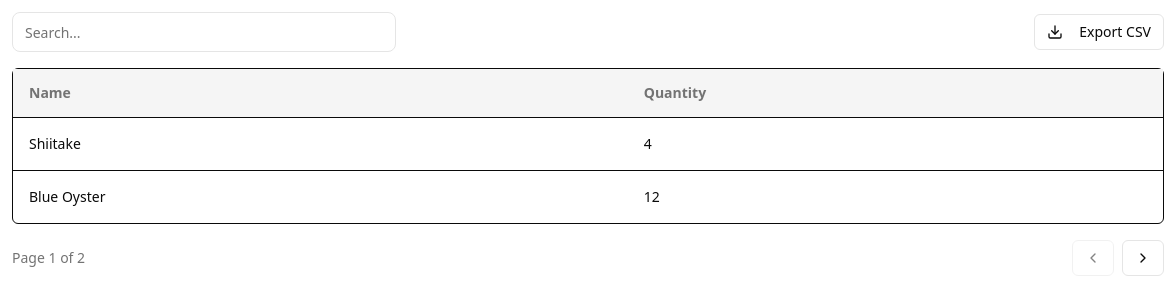
DataTable interactions › paginates without moving outside the available pages
Expected: the text "Page 1 of 2" is shown, [12, 248, 85, 268]
Expected: the button named "Previous page" is disabled, [1072, 240, 1114, 276]
Click the button named "Next page" at coordinates (1143, 258), box [1122, 240, 1164, 276]
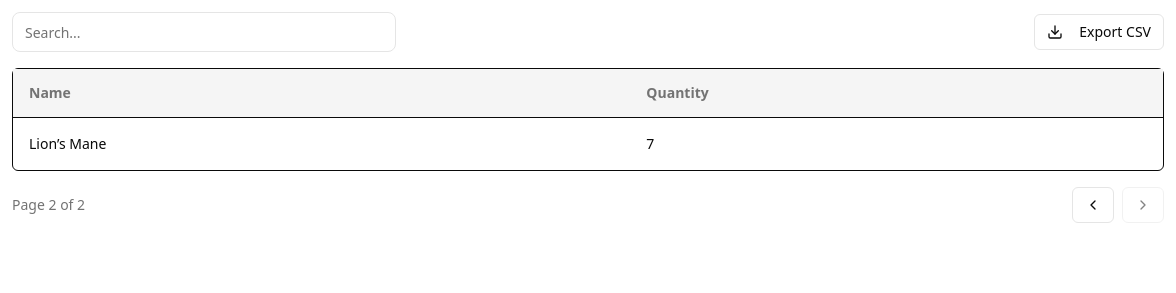
Expected: the button named "Next page" is disabled, [1122, 186, 1164, 222]
Now the text "Page 2 of 2" is shown, box [12, 194, 85, 214]
Now the text "Lion’s Mane" is shown, box [13, 117, 630, 170]
